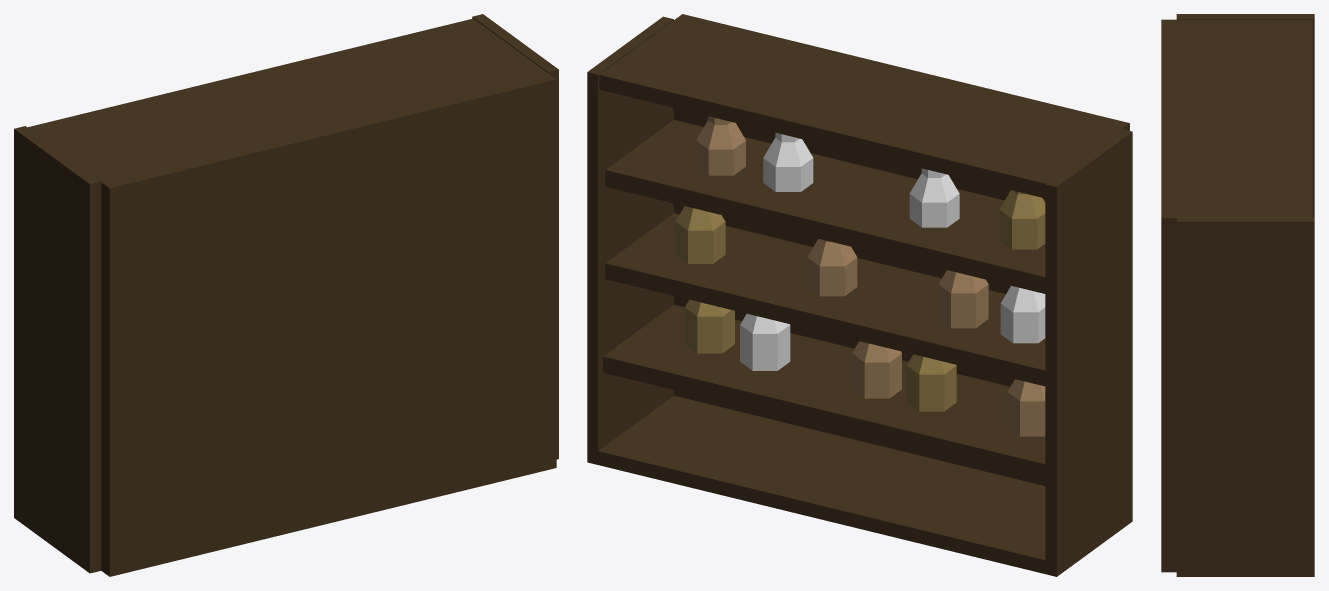
File: AlcoholShelf.fbx
The picture shows the model from 3 angles, left to right: view 1: azimuth 30°, elevation 25°; view 2: azimuth 150°, elevation 25°; view 3: azimuth 270°, elevation 25°; orthographic projection. The views are drawn at different scales.
Visible parts, largest first — view 1: Cube; view 2: Cube, Cylinder.012, Cylinder.011, Cylinder.015, Cylinder.010, Cylinder.001, Cylinder.000, Cylinder.003, Cylinder.002, Cylinder.013, Cylinder.016, Cylinder.018 (+2 smaller); view 3: Cube.
Part boxes in pixels (<box>): Cube: <box>14,14,558,576</box>; Cube: <box>587,14,1132,576</box>; Cylinder.012: <box>938,270,988,328</box>; Cylinder.011: <box>906,354,956,411</box>; Cylinder.015: <box>675,206,725,263</box>; Cylinder.010: <box>740,313,790,370</box>; Cylinder.001: <box>852,341,901,398</box>; Cylinder.000: <box>807,238,857,296</box>; Cylinder.003: <box>909,168,959,227</box>; Cylinder.002: <box>696,116,745,175</box>; Cylinder.013: <box>763,132,813,191</box>; Cylinder.016: <box>999,190,1045,249</box>; Cylinder.018: <box>684,299,734,353</box>; Cube: <box>1161,14,1314,576</box>.
Bounding box in the file's own units: 516 × 410 × 161.
